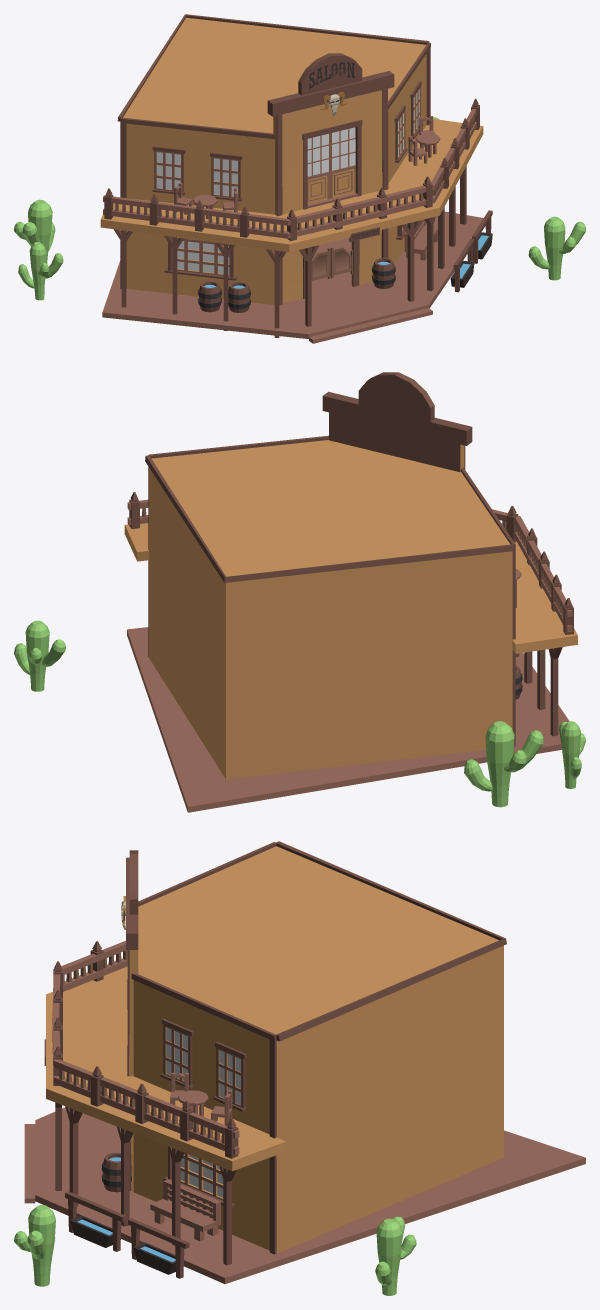
File: surface-restaurant.glb
3 renders of one model, top to bottom at view 1: azimuth 30°, elevation 25°; view 2: azimuth 150°, elevation 25°; view 3: azimuth 270°, elevation 25°, orthographic. The views are drawn at different scales.
Parts seen in each view (by area): view 1: Cube.023, Cube.019, Cube.028, Cylinder.005, Cylinder.004, Cylinder.006, Cube.021, Cube.020, Cylinder.001, Cylinder.002, Cylinder, Cube.025 (+1 smaller); view 2: Cube.023, Cube.019, Cube.028, Cylinder.004, Cylinder.003, Cylinder.006; view 3: Cube.023, Cube.019, Cube.028, Cube.025, Cylinder.005, Cylinder.003, Cube.020, Cube.021, Cylinder.002.
Part boxes in pixels (x1,y1,x2,y2): Cube.023: (100,17,483,337); Cube.019: (102,211,484,343); Cube.028: (117,14,430,305); Cylinder.005: (528,216,585,280); Cylinder.004: (14,199,55,263); Cylinder.006: (18,242,63,300); Cube.021: (450,239,474,292); Cube.020: (472,210,492,263); Cylinder.001: (198,281,221,312); Cylinder.002: (372,258,395,288); Cylinder: (228,281,250,312); Cube.025: (404,219,437,260); Cube.023: (124,372,577,779); Cube.019: (127,627,569,812); Cube.028: (145,435,515,746); Cylinder.004: (464,721,543,807); Cylinder.003: (14,620,65,691); Cylinder.006: (559,721,585,788); Cube.023: (46,846,503,1265); Cube.019: (24,1107,585,1283); Cube.028: (127,841,506,1254); Cube.025: (150,1179,220,1241); Cylinder.005: (14,1205,55,1286); Cylinder.003: (375,1216,416,1295); Cube.020: (128,1218,189,1278); Cube.021: (65,1191,126,1251); Cylinder.002: (101,1152,131,1192).
Size of the model in its own units: 0.9547 by 0.4903 by 0.8047.
